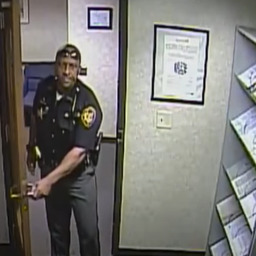person: (26, 44, 104, 256)
